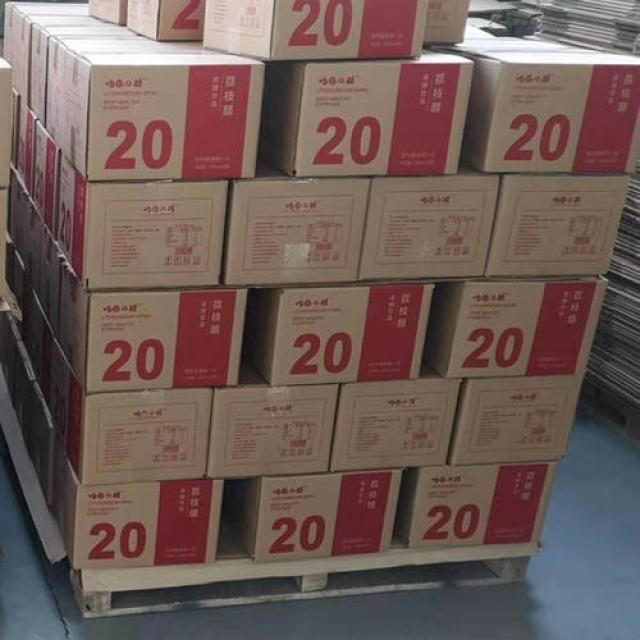box: (46, 36, 266, 179), (425, 36, 640, 173), (257, 49, 475, 177), (58, 259, 247, 393), (58, 154, 228, 289), (54, 438, 224, 570), (221, 155, 370, 288), (242, 283, 435, 385), (422, 275, 608, 378), (65, 367, 212, 484), (357, 164, 500, 284), (221, 468, 403, 561), (484, 174, 631, 280), (394, 462, 557, 547), (202, 0, 429, 60), (209, 384, 338, 479), (447, 375, 582, 465), (332, 379, 462, 472), (4, 1, 114, 106), (31, 23, 142, 125), (28, 383, 56, 512), (33, 122, 61, 239), (127, 0, 206, 40), (26, 291, 54, 402), (38, 225, 63, 335), (13, 340, 37, 449), (17, 99, 38, 201), (12, 251, 33, 349), (49, 337, 68, 445), (425, 0, 468, 44), (24, 204, 44, 296), (0, 56, 13, 186), (13, 180, 32, 264), (3, 321, 20, 406), (8, 166, 22, 241), (88, 0, 127, 24), (0, 189, 8, 296), (12, 90, 20, 169)
